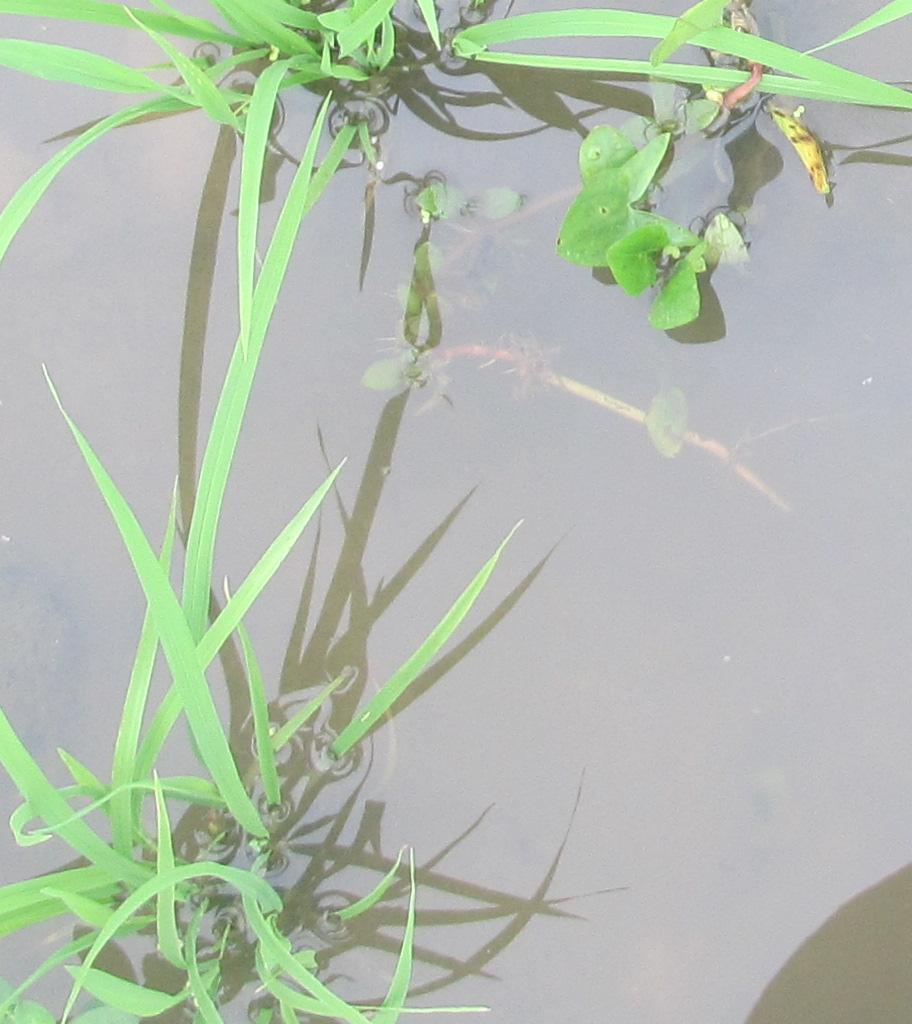Weed: (558, 102, 741, 349)
